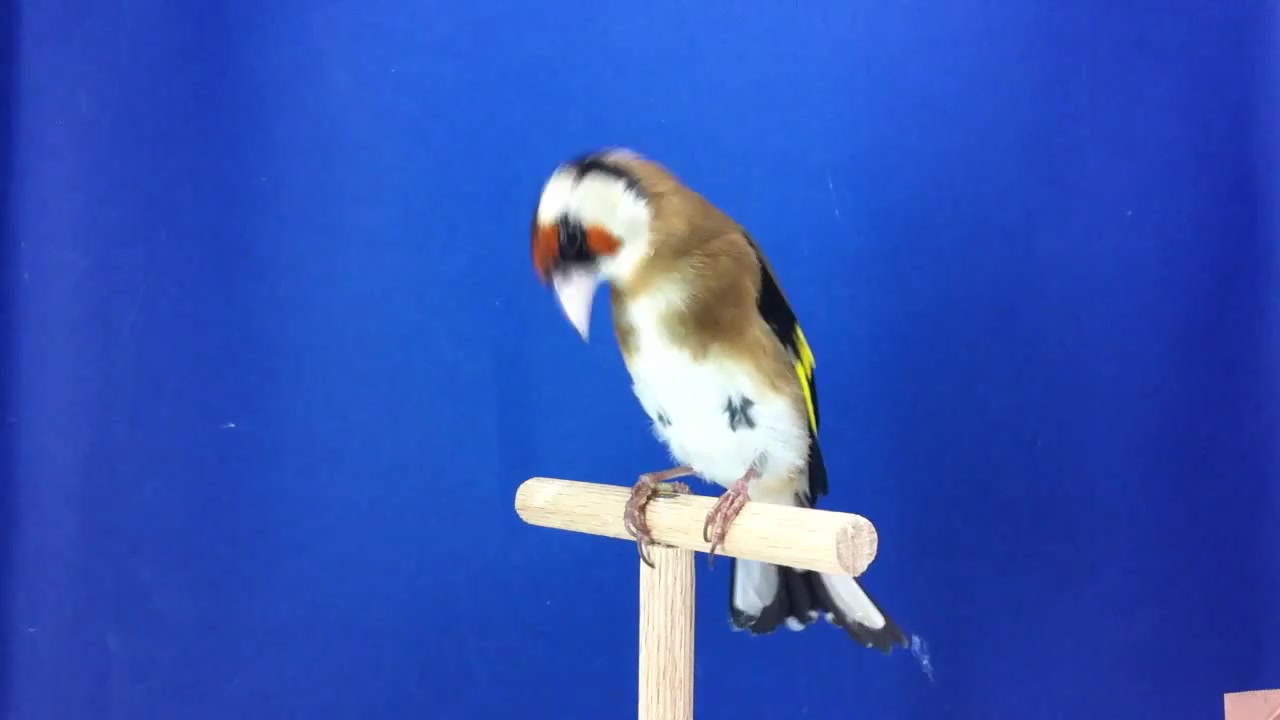bird: (527, 144, 909, 653)
